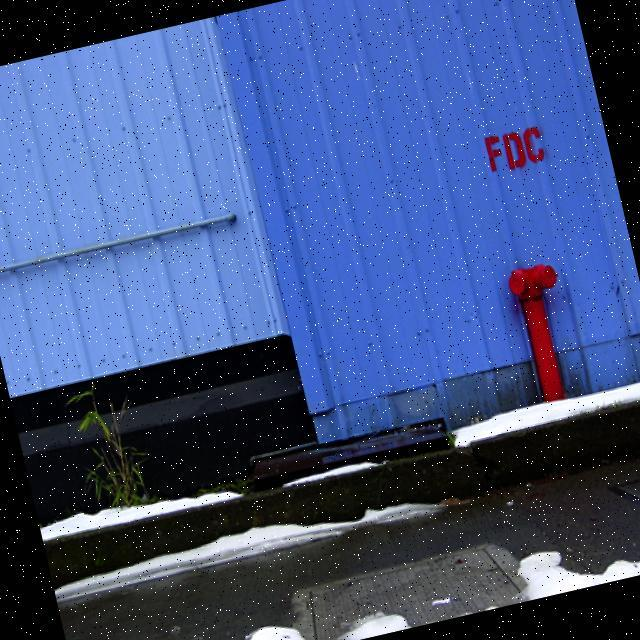fire_hydrant: (507, 258, 583, 404)
